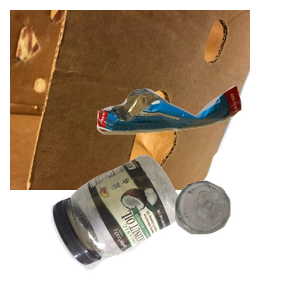cardboard: (10, 10, 250, 190)
glass: (172, 178, 300, 300)
plastic: (48, 152, 228, 300)
trash: (94, 83, 300, 210)
